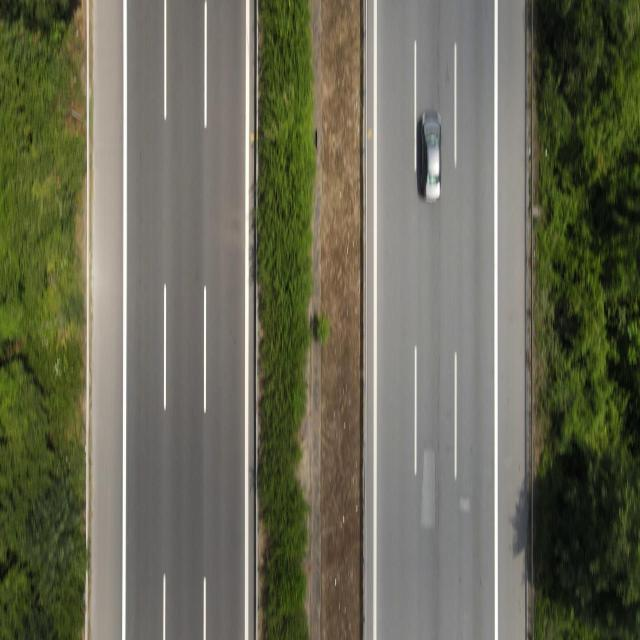Car: (413, 86, 449, 227)
